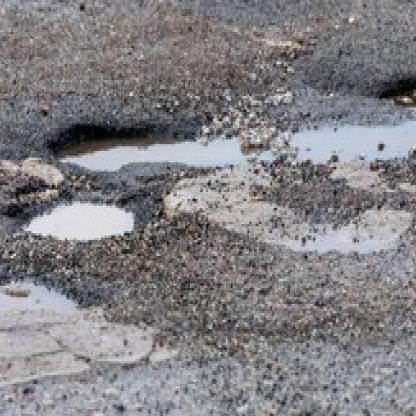pothole: (47, 57, 416, 174), (10, 185, 139, 247)
